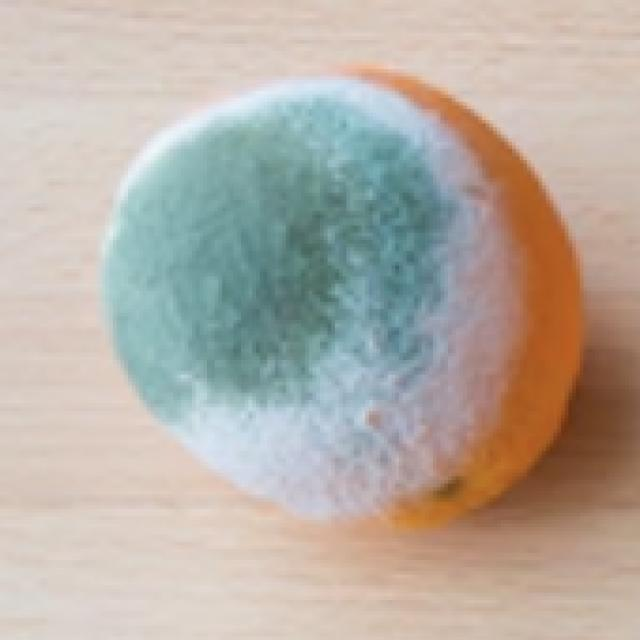rotten-orange: (98, 76, 580, 530)
